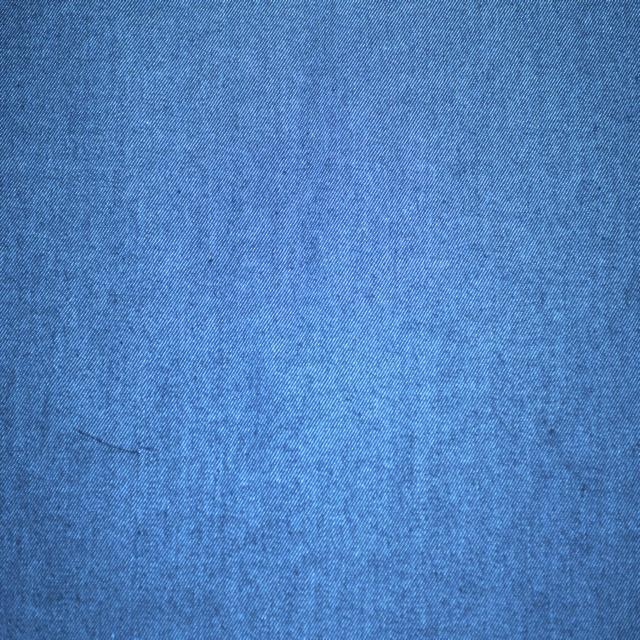defect: (69, 424, 135, 460)
